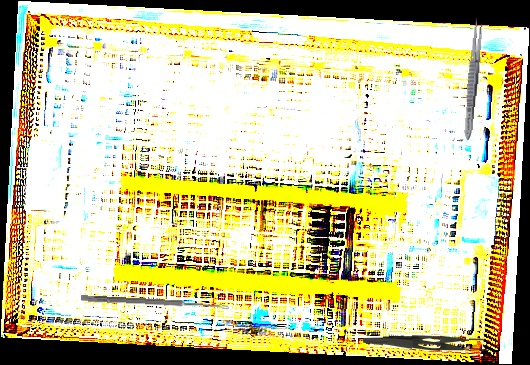Dressing Forceps: (362, 332, 490, 358), (461, 16, 485, 141)
Surgical Spoon: (80, 295, 230, 310)
